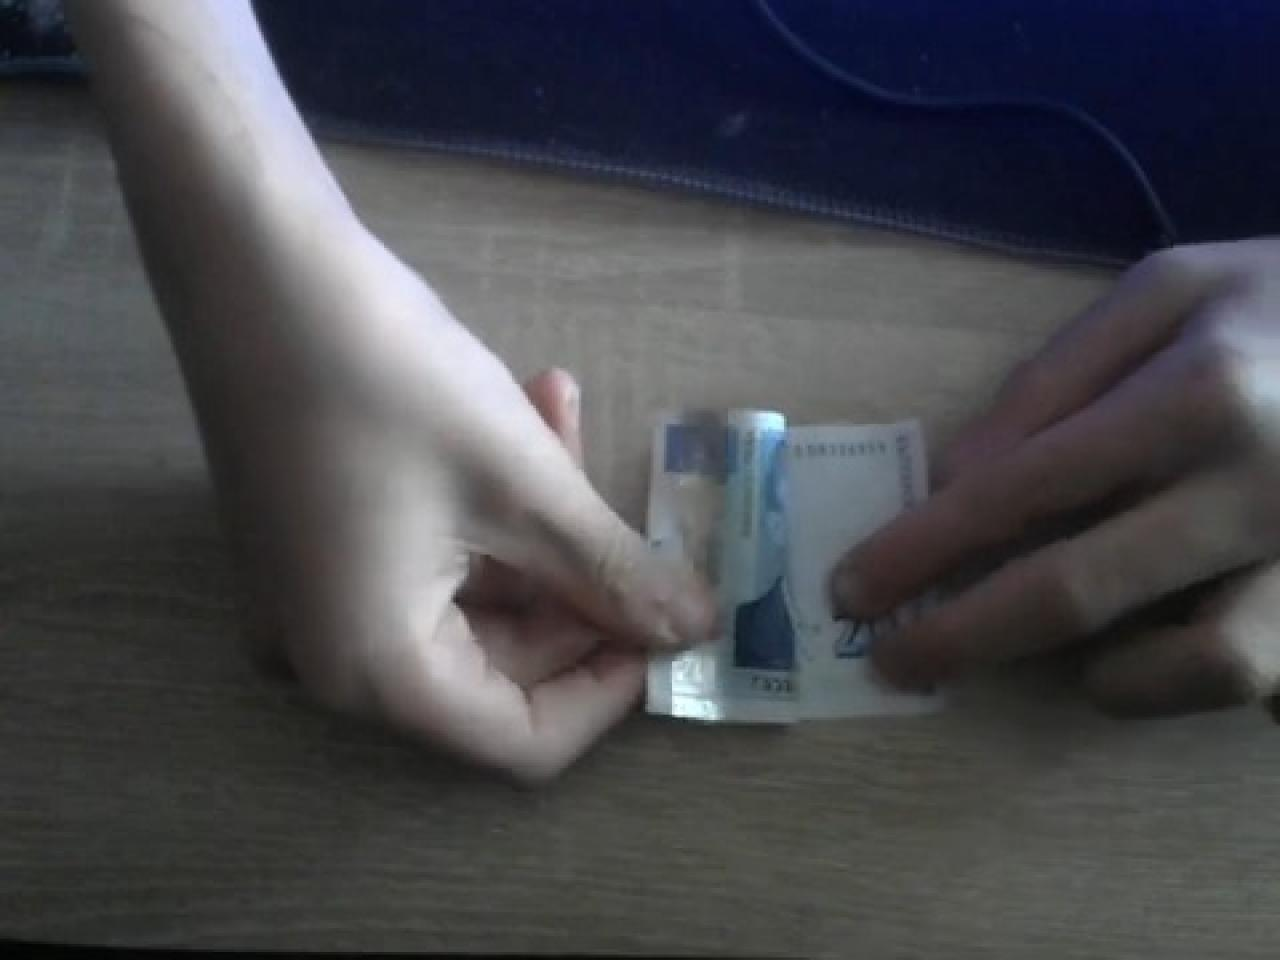20leva: (648, 410, 944, 725)
